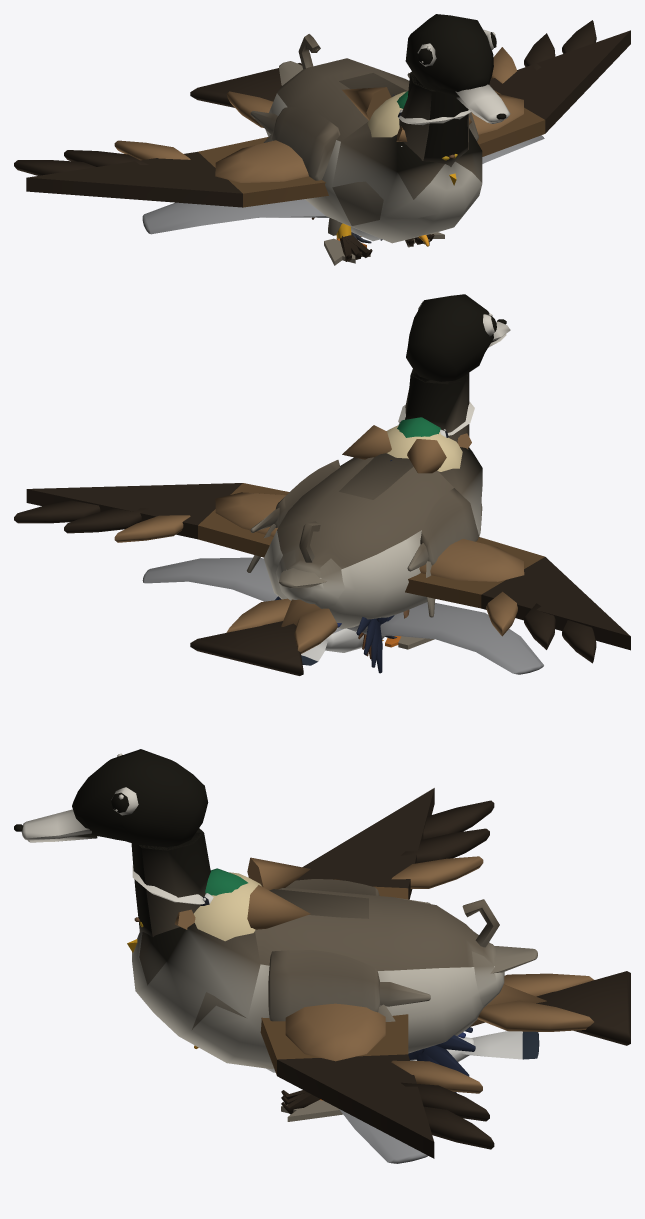
Rendered from birds.glb.
3 renders of one model, top to bottom at view 1: azimuth 30°, elevation 25°; view 2: azimuth 150°, elevation 25°; view 3: azimuth 270°, elevation 25°, orthographic. The views are drawn at different scales.
Visible parts, largest first — view 1: hawk, goose, goose_lod, gull; view 2: hawk, goose, gull, goose_lod, crow, duck; view 3: hawk, goose, goose_lod, gull, crow, duck.
Part boxes in pixels (bbox=[...]): hawk: bbox=[14, 20, 630, 261]; goose: bbox=[250, 14, 510, 265]; goose_lod: bbox=[312, 33, 489, 223]; gull: bbox=[142, 135, 544, 246]; hawk: bbox=[14, 425, 630, 675]; goose: bbox=[246, 294, 510, 649]; gull: bbox=[142, 557, 543, 674]; goose_lod: bbox=[275, 311, 489, 608]; crow: bbox=[275, 460, 396, 673]; duck: bbox=[347, 417, 448, 647]; hawk: bbox=[127, 788, 630, 1158]; goose: bbox=[14, 749, 537, 1121]; goose_lod: bbox=[75, 780, 501, 1055]; gull: bbox=[194, 1031, 539, 1163]; crow: bbox=[408, 1027, 475, 1092]; duck: bbox=[134, 868, 416, 1100].
Bounding box in the file's own units: 1.6 × 0.7123 × 1.18.
